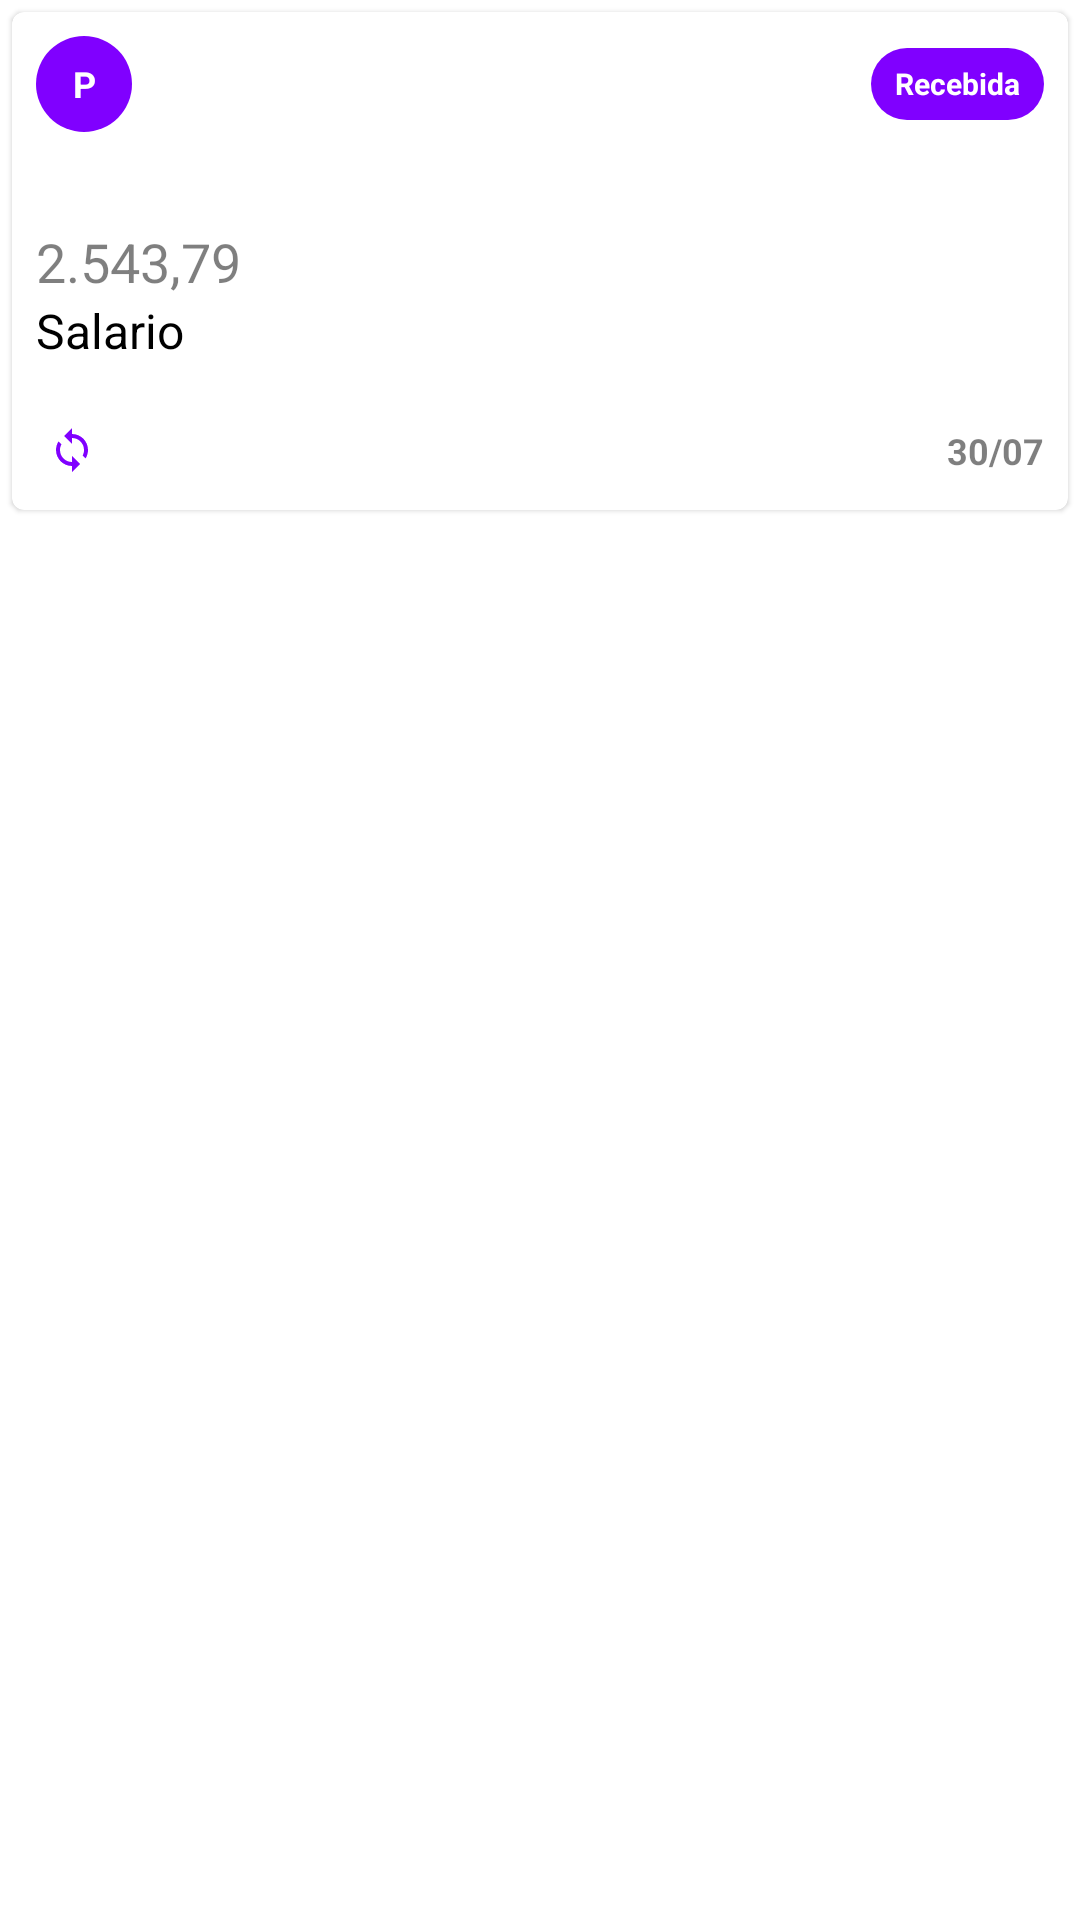

Screen size 1080w x 1920h. Icon name, then its box in pixels as (x1, y1, x2, y2):
Recorrente: (56, 428, 88, 472)
